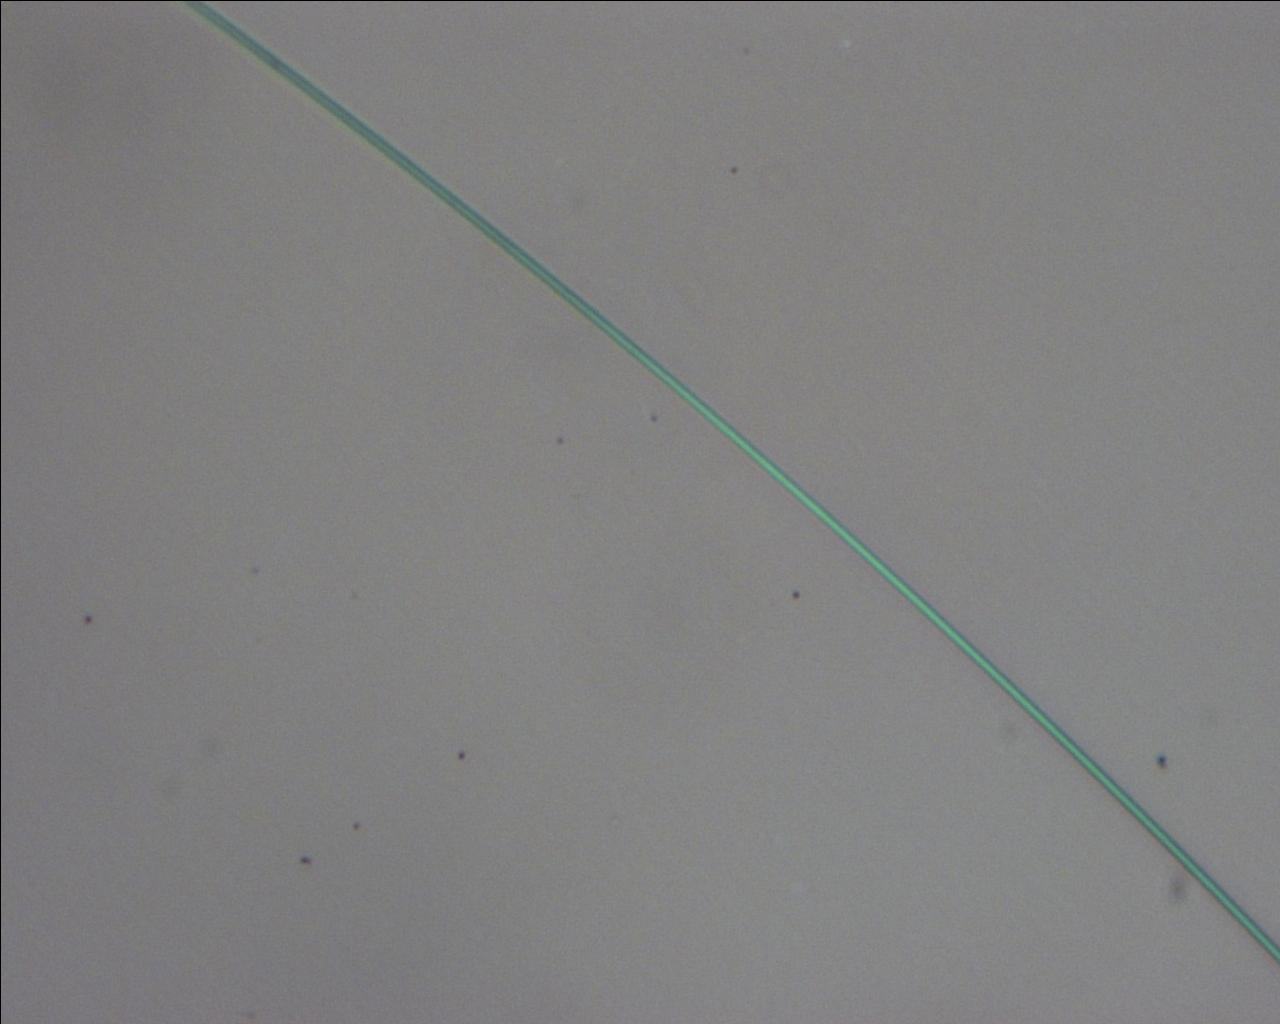fiber: (182, 1, 1280, 965)
